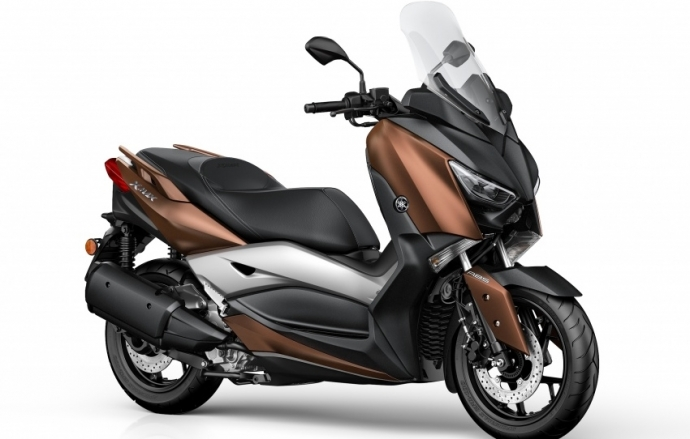motorcycle: (93, 81, 599, 439)
